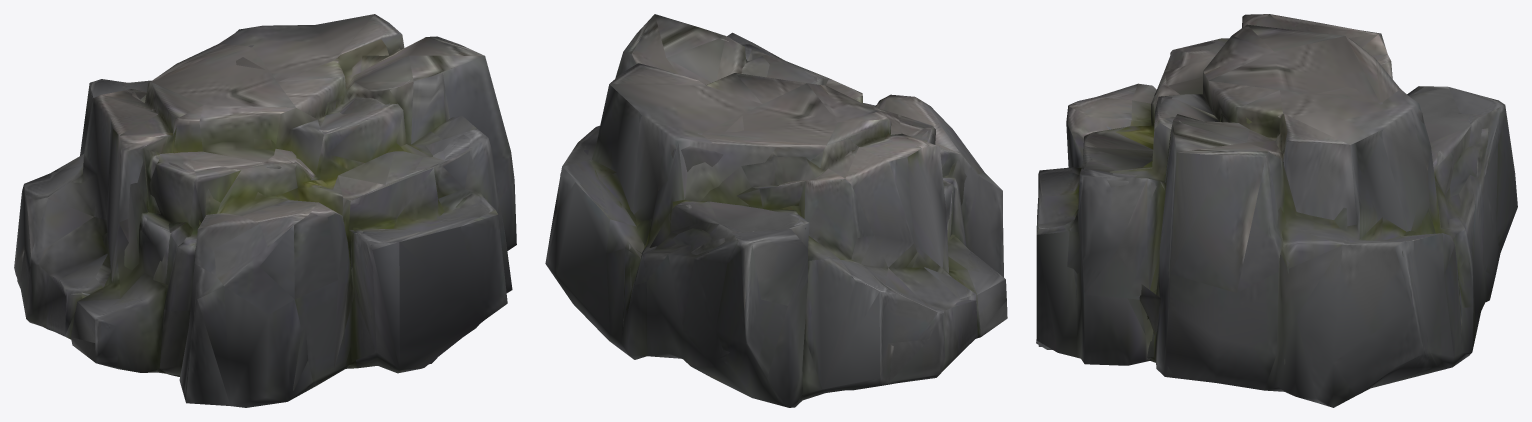
File: rock.glb
3 renders of one model, left to right at view 1: azimuth 30°, elevation 25°; view 2: azimuth 150°, elevation 25°; view 3: azimuth 270°, elevation 25°, orthographic. The views are drawn at different scales.
Parts seen in each view (by area): view 1: ROCK; view 2: ROCK; view 3: ROCK.
Part boxes in pixels (box(x1,y1,x2,y2)): ROCK: box(14, 14, 516, 407); ROCK: box(545, 14, 1007, 407); ROCK: box(1036, 14, 1517, 407).
Size of the model in its own units: 1.93 by 1.17 by 1.8.
Materials: 1 (1 with a texture image).
